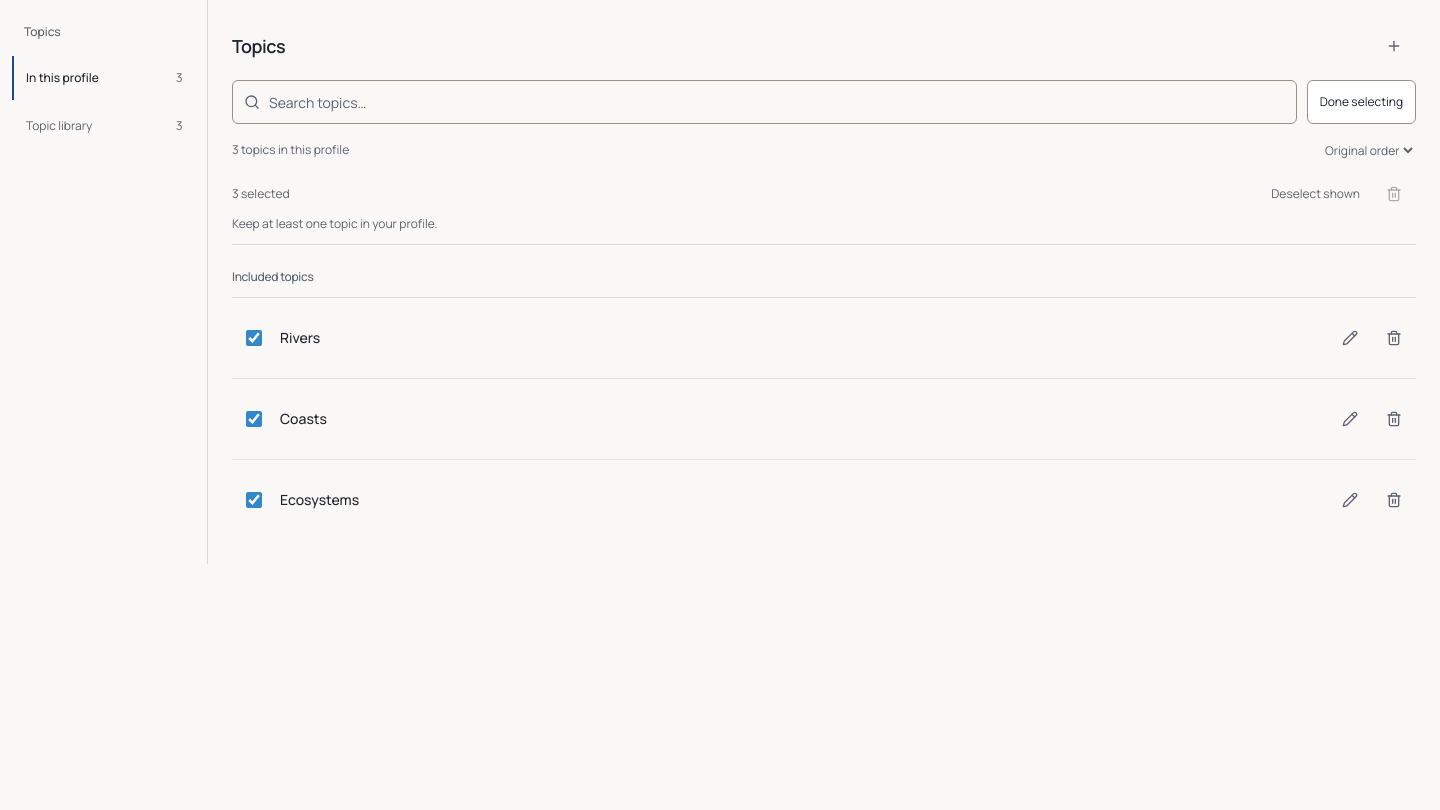
CustomProfileTopics › bulk selects across searches, reselects shown rows and guards against removing every topic
Earlier steps of the test are not shown.
Later steps or results of the test are not shown.
Expected: the button named "Remove selected topics" is disabled, [1372,172,1416,216]
Expected: the text "Keep at least one topic in your profile." is shown, [232,215,438,232]
Click the button "Deselect shown" at (1316, 194), box [1271,172,1360,216]
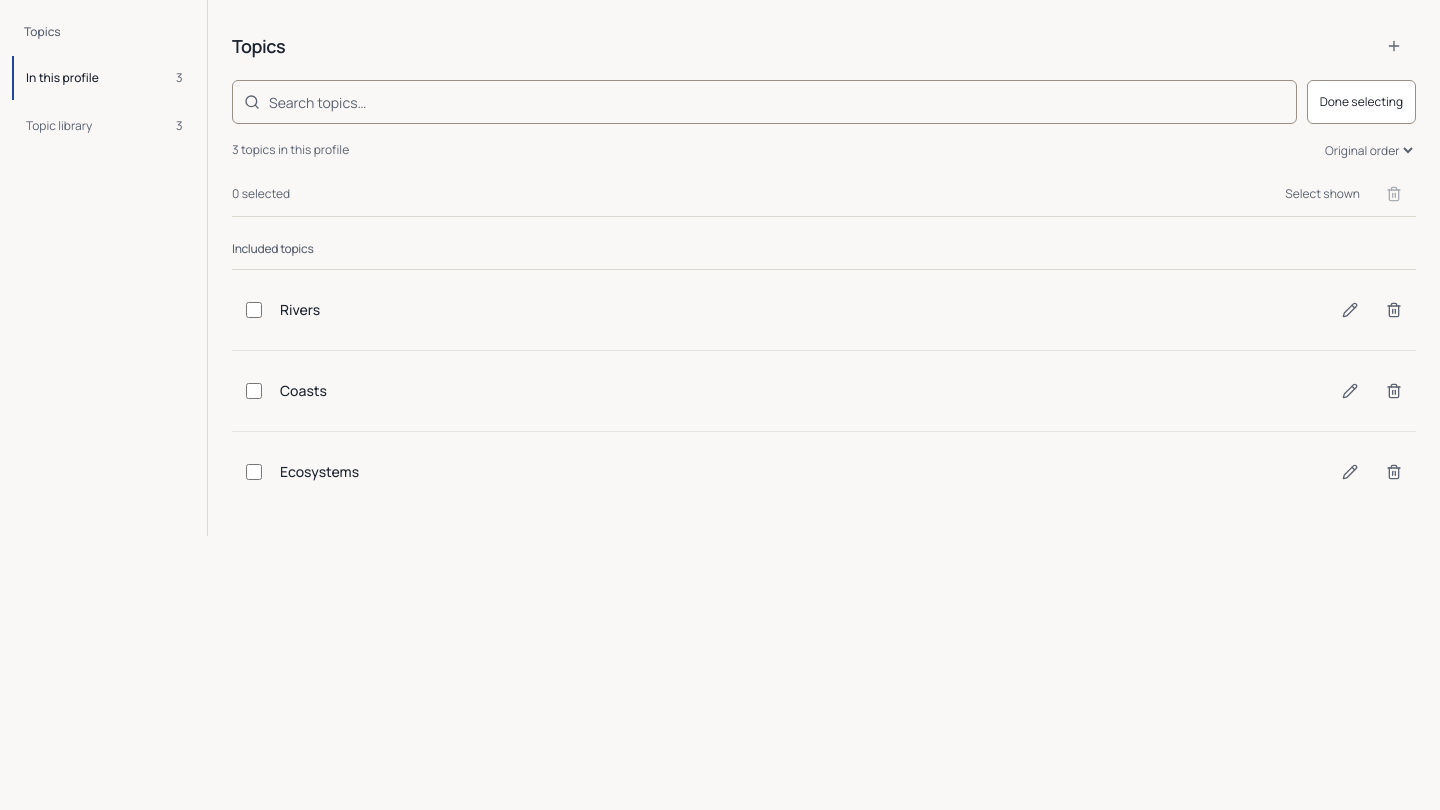
Type "Rivers" into the search field labelled "Search topics" at (764, 102), box [232,80,1297,124]
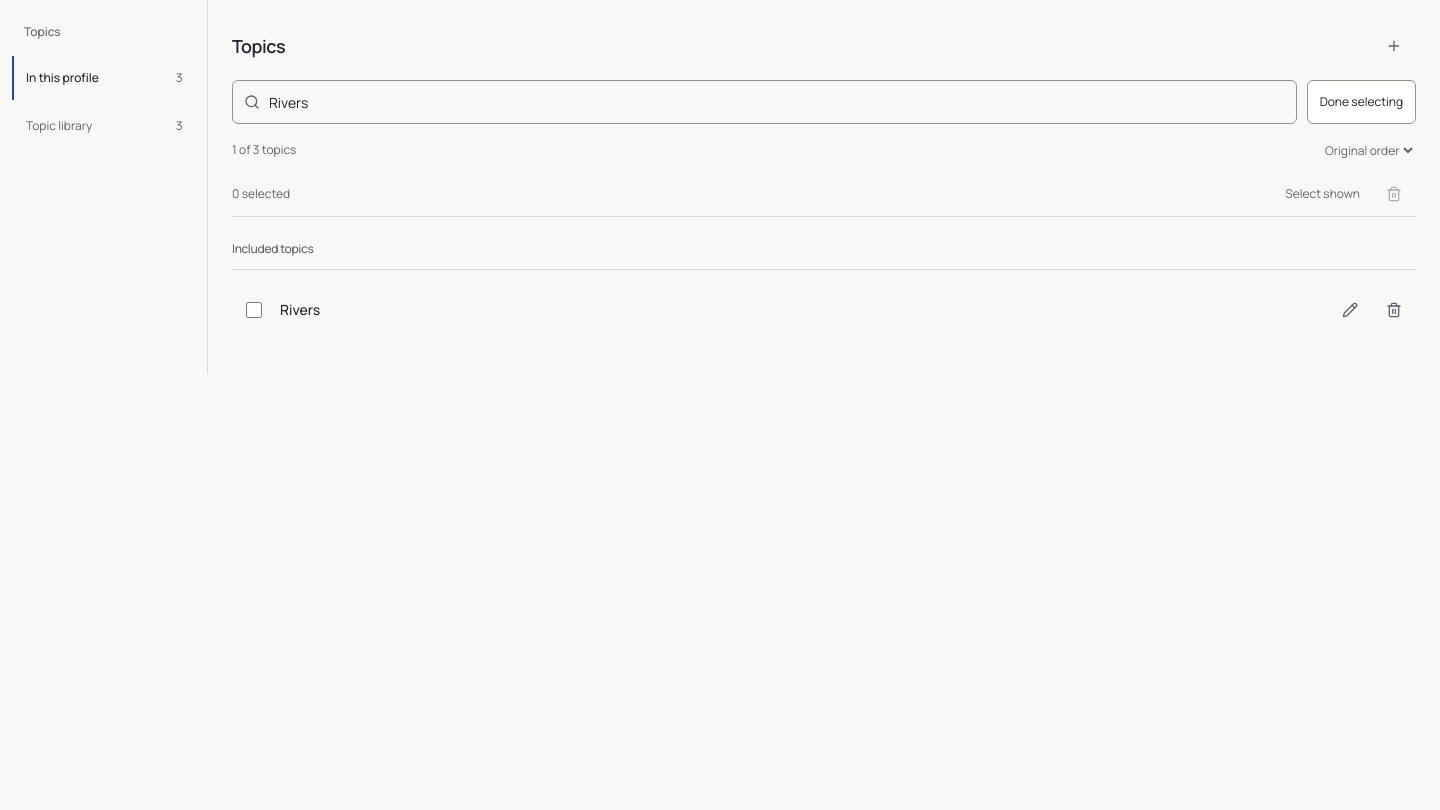
Click the button "Select shown" at (1323, 194), box [1285,172,1360,216]
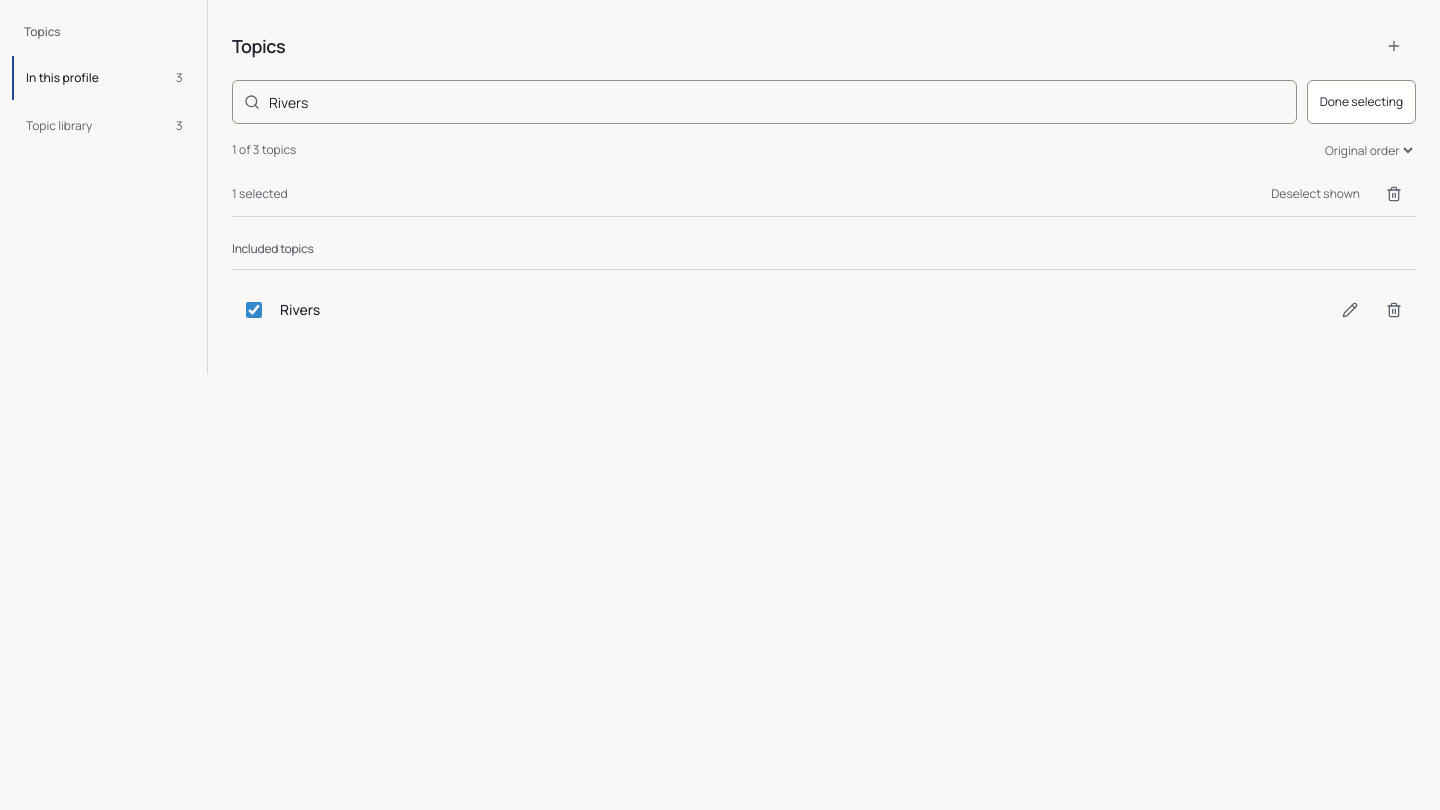
Click the button "Deselect shown" at (1316, 194), box [1271,172,1360,216]
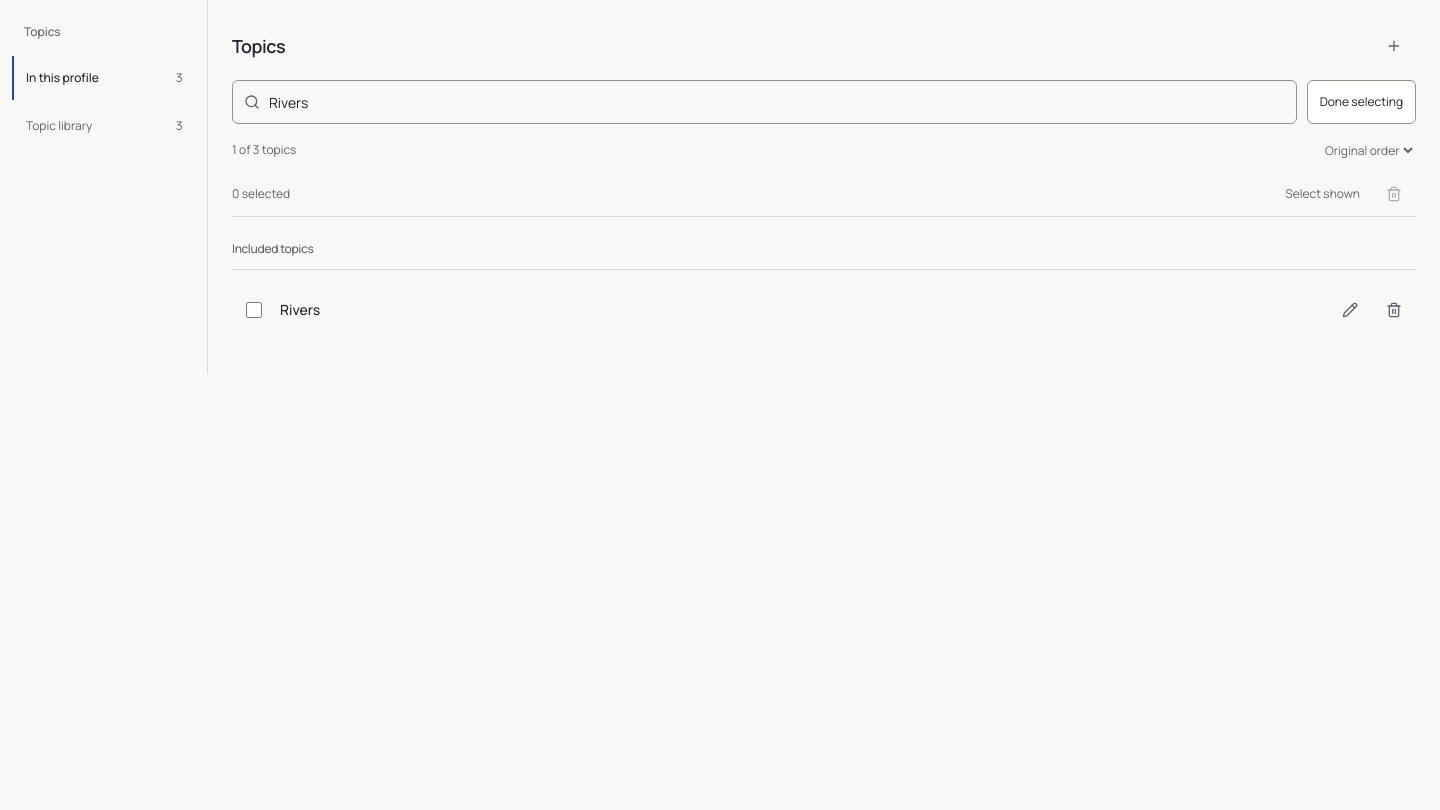
Click the button "Select shown" at (1323, 194), box [1285,172,1360,216]
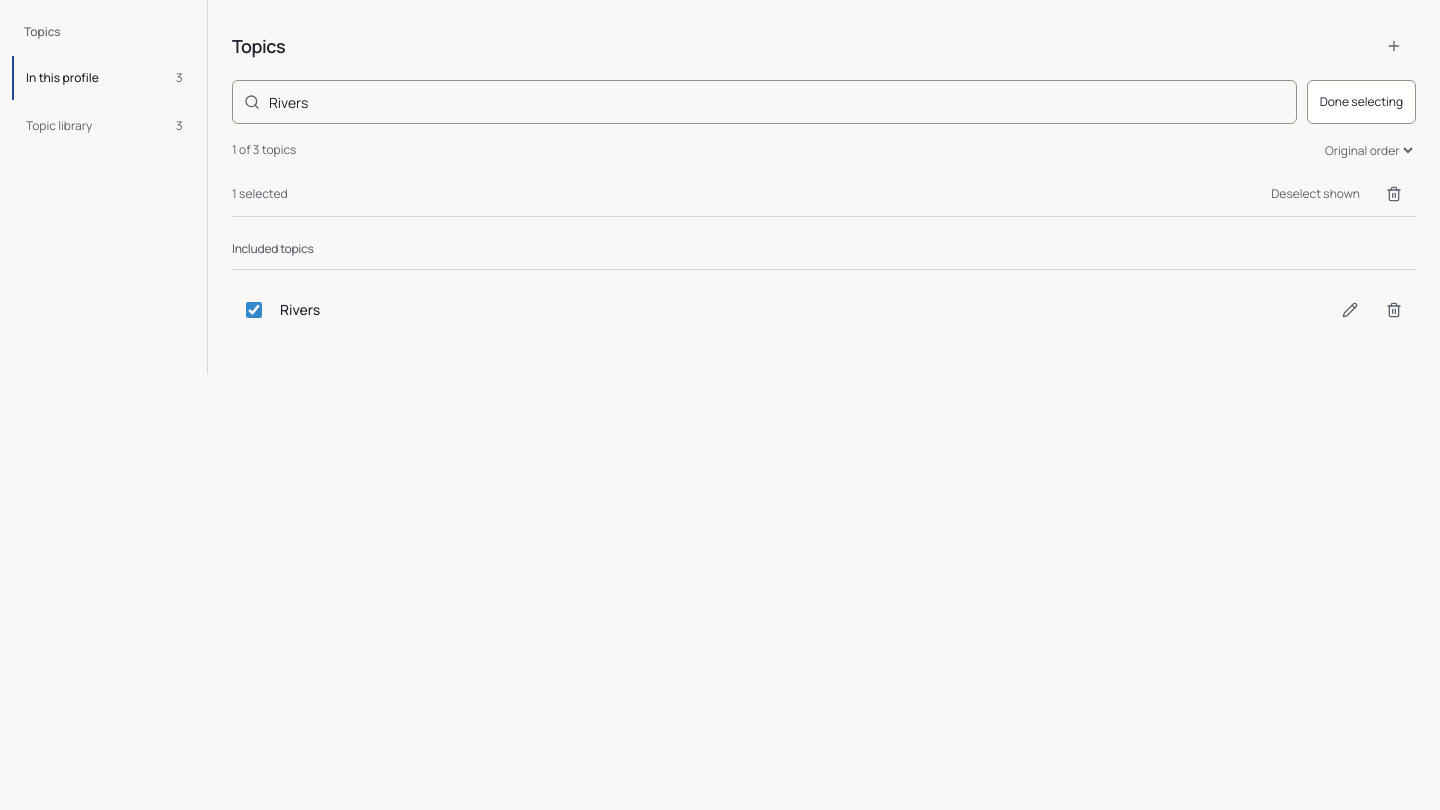
Replace the text in the search field named "Search topics" with "Coasts" at (764, 102), box [232,80,1297,124]
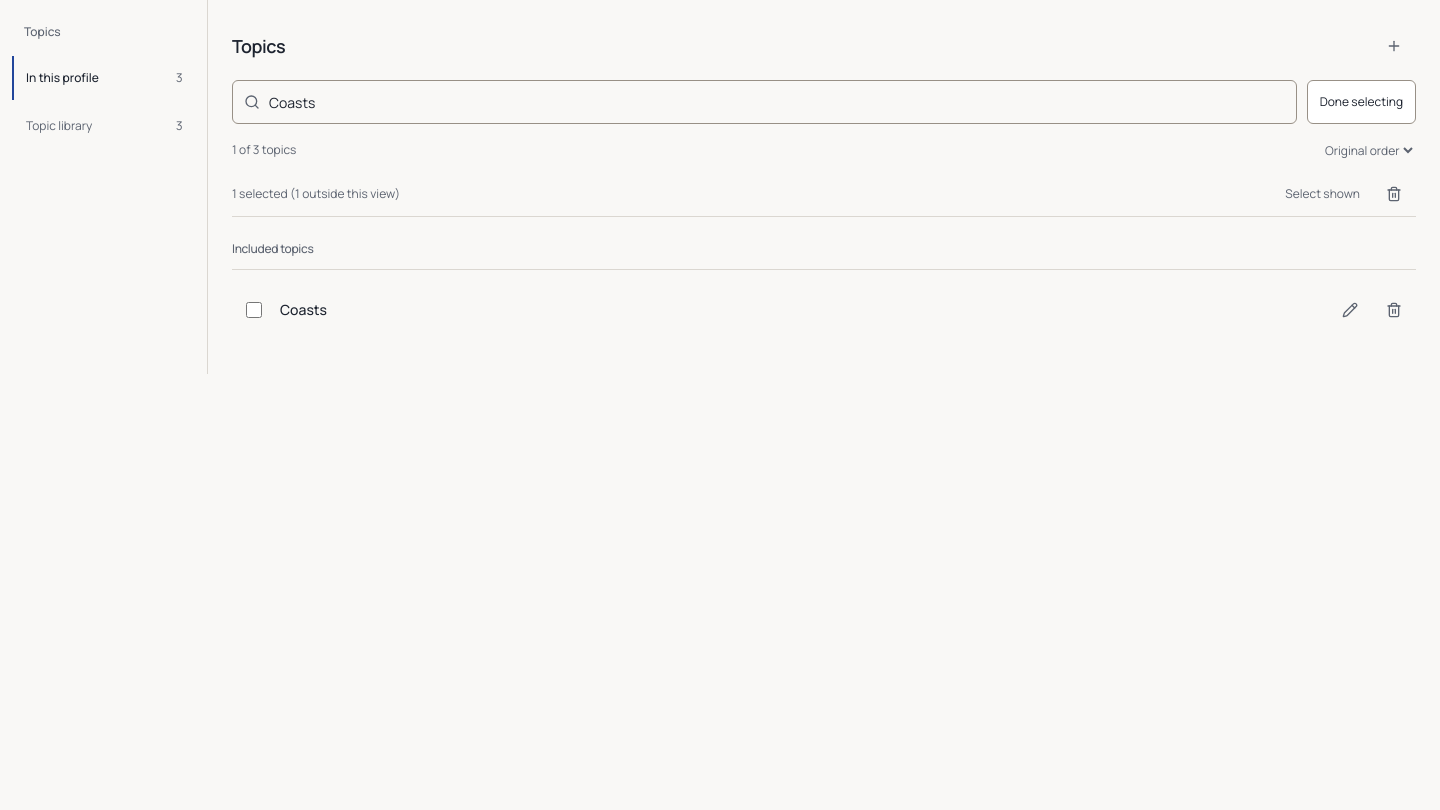
Expected: the text "1 selected (1 outside this view)" is shown, [232,186,400,202]
